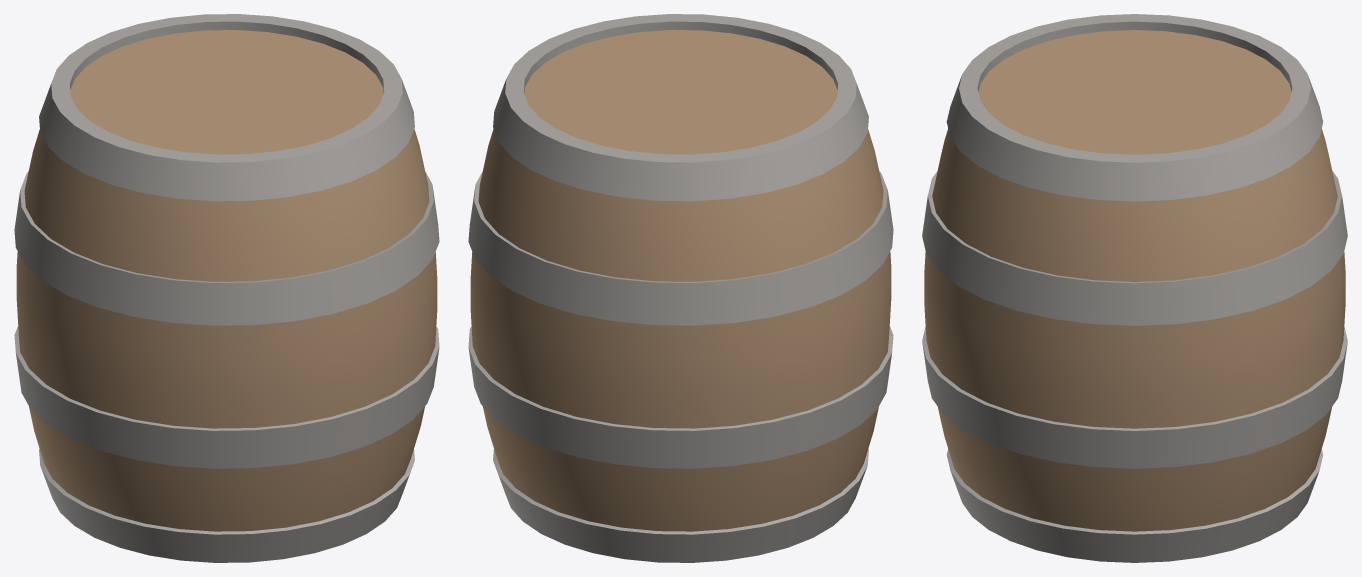
Rendered from kb3d_barrel.glb.
The picture shows the model from 3 angles, left to right: view 1: azimuth 30°, elevation 25°; view 2: azimuth 150°, elevation 25°; view 3: azimuth 270°, elevation 25°; orthographic projection.
Parts seen in each view (by area): view 1: EXPORT_kb3d_barrel; view 2: EXPORT_kb3d_barrel; view 3: EXPORT_kb3d_barrel.
Boxes of the visible parts, x1,y1,x2,y2 form: EXPORT_kb3d_barrel: (14, 14, 439, 562); EXPORT_kb3d_barrel: (468, 14, 893, 562); EXPORT_kb3d_barrel: (922, 14, 1347, 562).
Size of the model in its own units: 0.8851 by 0.9189 by 0.8851.
